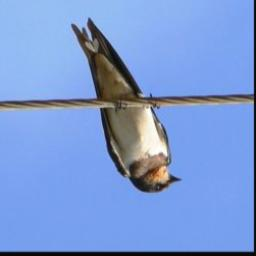Swallow: (70, 19, 184, 195)
